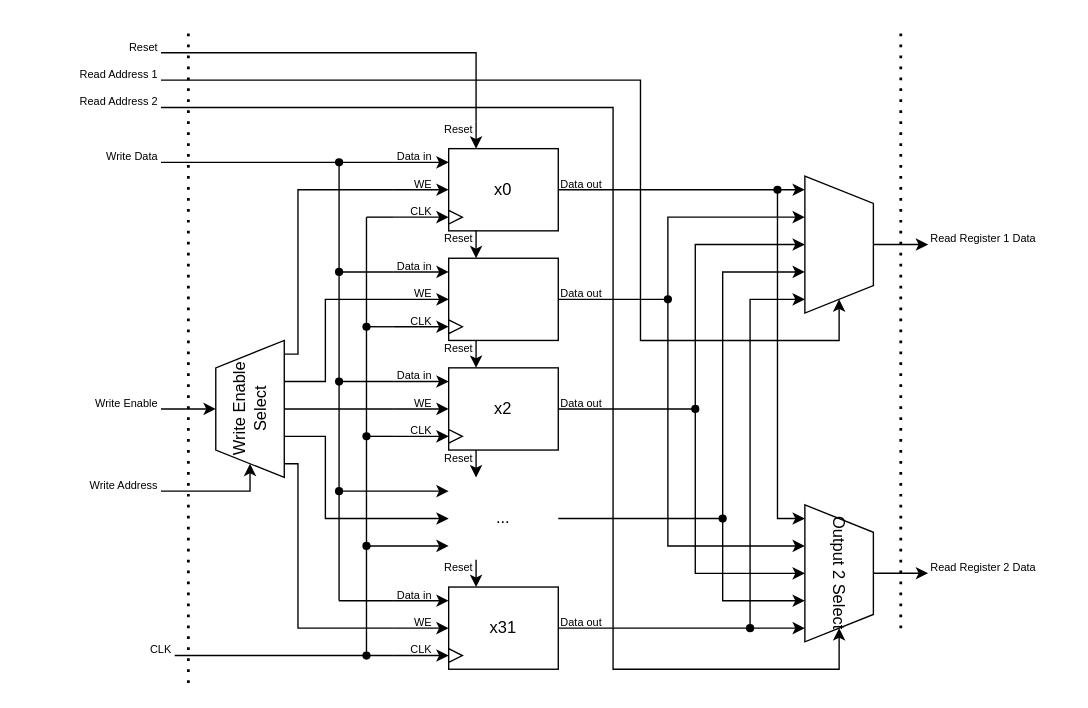
Some shapes in this 1088 by 708 pixel diagram are drawn without their labels. Here are the shapes that lost their labels. From the top down, the centre of each, then its label:
At pixel 838 244: "Output 1 Select".
At pixel 502 298: "x1".
